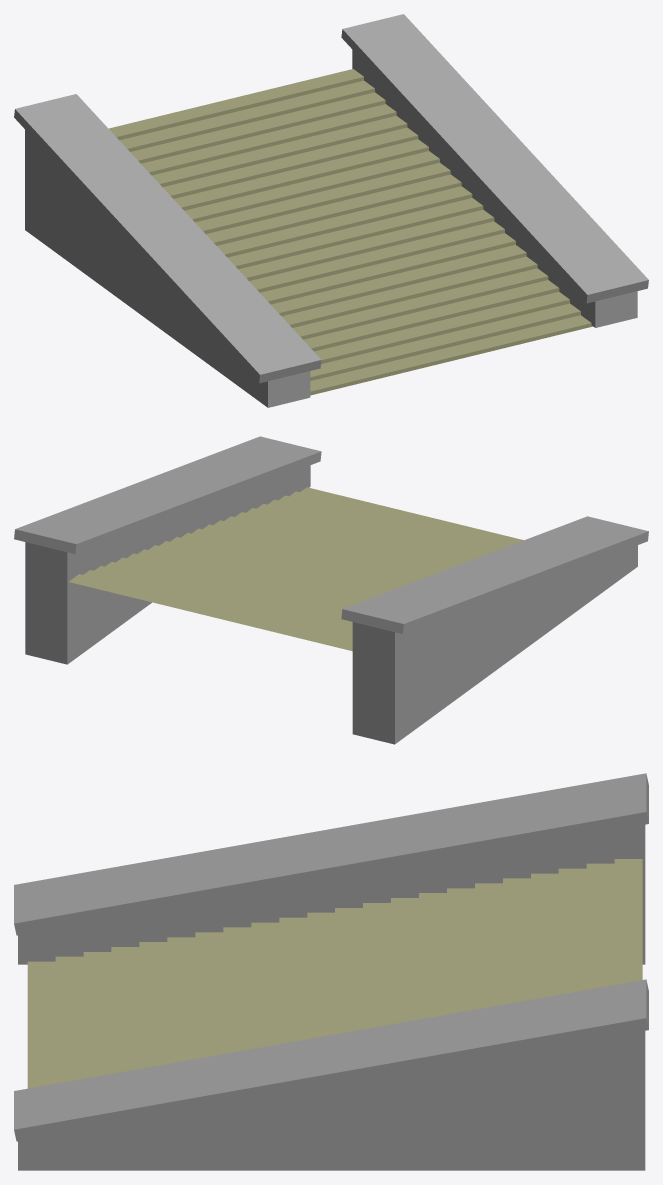
Rendered from StairBorder.fbx.
The picture shows the model from 3 angles, top to bottom: view 1: azimuth 30°, elevation 25°; view 2: azimuth 150°, elevation 25°; view 3: azimuth 270°, elevation 25°; orthographic projection. The views are drawn at different scales.
Visible parts, largest first — view 1: Stairs, Border1, Border; view 2: Stairs, Border1, Border; view 3: Border, Stairs, Border1.
Part boxes in pixels (bbox=[...]): Stairs: bbox=[109, 69, 592, 395]; Border1: bbox=[14, 94, 321, 407]; Border: bbox=[341, 14, 648, 327]; Stairs: bbox=[69, 487, 523, 651]; Border1: bbox=[341, 516, 648, 744]; Border: bbox=[14, 436, 321, 664]; Border: bbox=[14, 979, 648, 1170]; Stairs: bbox=[27, 859, 642, 1088]; Border1: bbox=[14, 773, 648, 964].
Size of the model in its own units: 0.0487 by 0.0149 by 0.0534.
